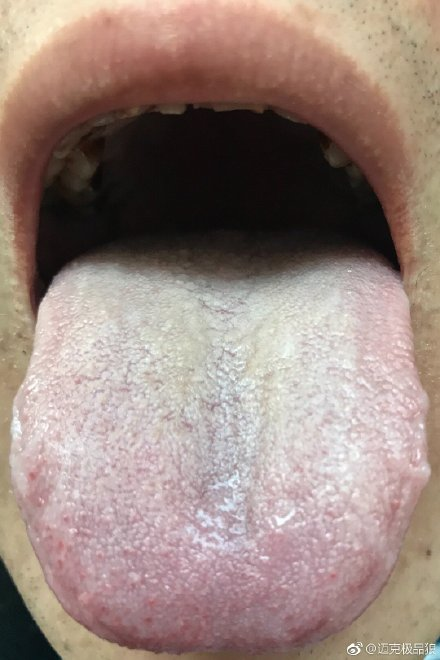baitaishe: (10, 223, 431, 654)
